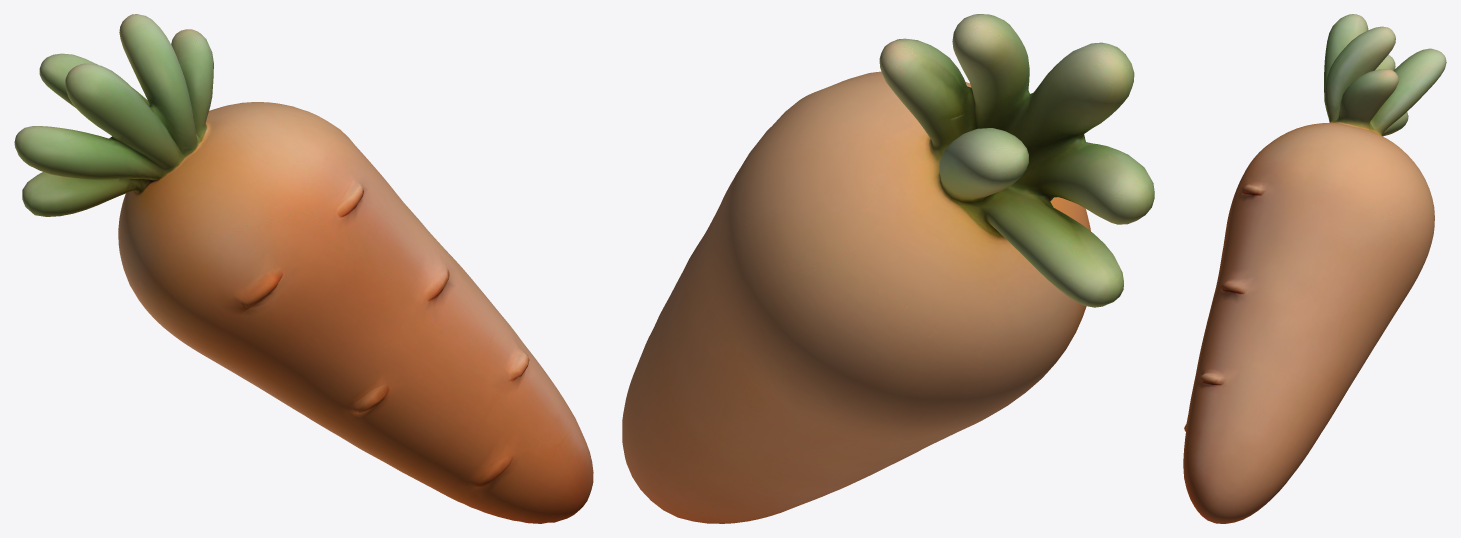
Rendered from carrot.glb.
3 renders of one model, left to right at view 1: azimuth 30°, elevation 25°; view 2: azimuth 150°, elevation 25°; view 3: azimuth 270°, elevation 25°, orthographic. The views are drawn at different scales.
Visible parts, largest first — view 1: tripo_node_0727a8e3; view 2: tripo_node_0727a8e3; view 3: tripo_node_0727a8e3.
Part boxes in pixels (x1,y1,x2,y2): tripo_node_0727a8e3: [14, 14, 593, 523]; tripo_node_0727a8e3: [622, 14, 1154, 523]; tripo_node_0727a8e3: [1183, 14, 1446, 523].
Size of the model in its own units: 97.7 by 100 by 62.84.
Materials: 1 (1 with a texture image).
